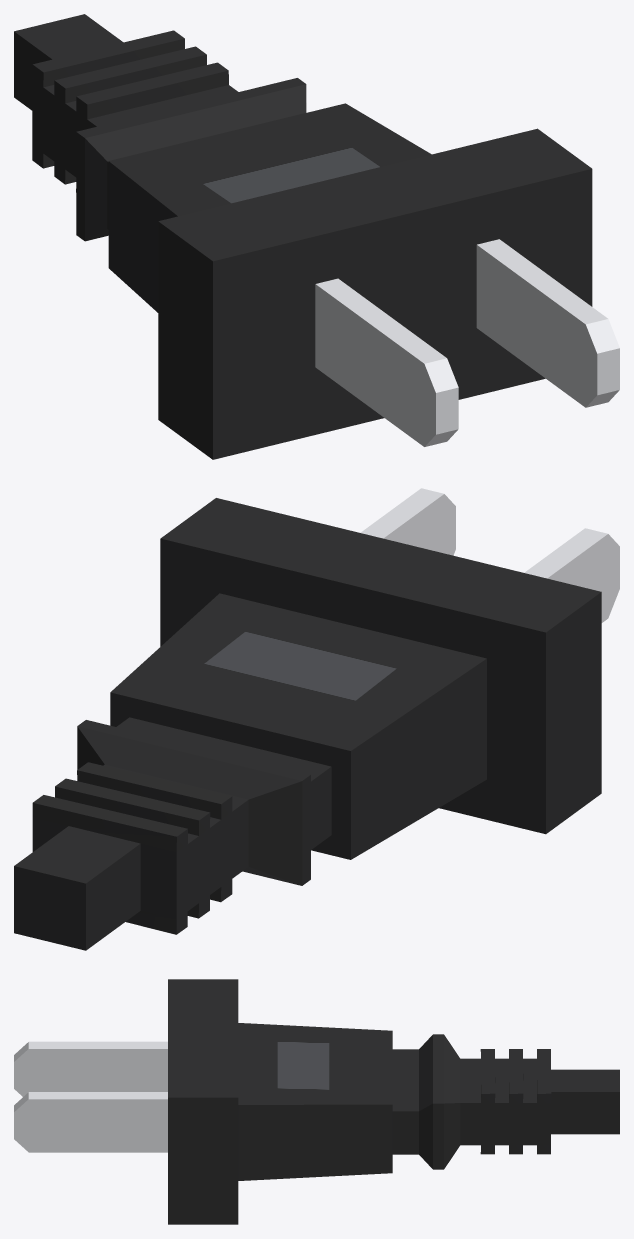
Rendered from Appliance plug 1.gltf.
3 renders of one model, top to bottom at view 1: azimuth 30°, elevation 25°; view 2: azimuth 150°, elevation 25°; view 3: azimuth 270°, elevation 25°, orthographic. The views are drawn at different scales.
Visible parts, largest first — view 1: node-0; view 2: node-0; view 3: node-0.
Part boxes in pixels (x1,y1,x2,y2): node-0: (14, 14, 619, 459); node-0: (14, 488, 619, 950); node-0: (14, 979, 619, 1224).
Size of the model in its own units: 200 by 100 by 432.
1 material, 1 textured.
